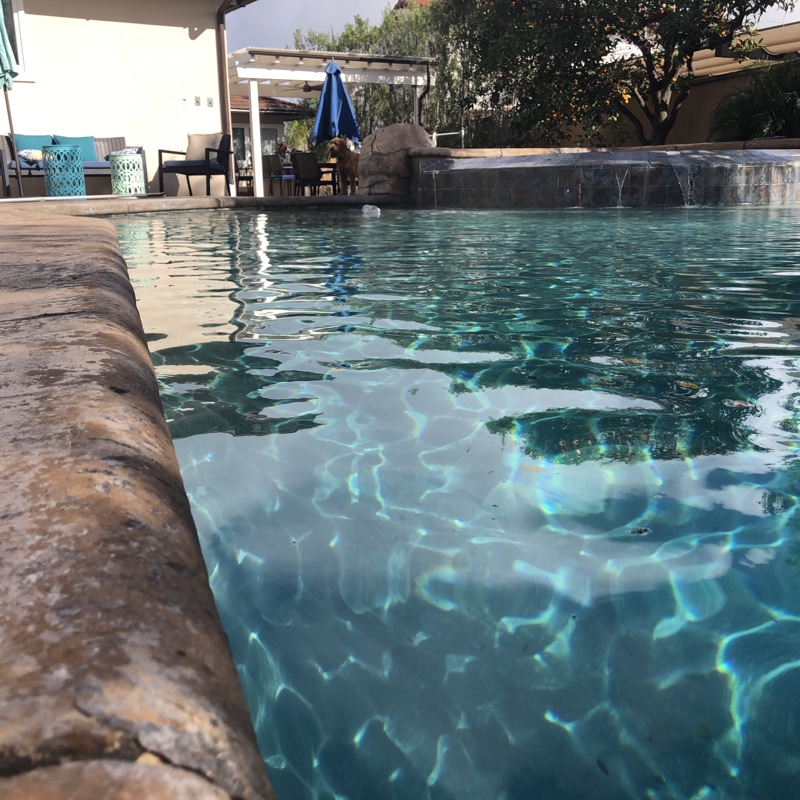Plastic Bottle: (359, 202, 383, 220)
